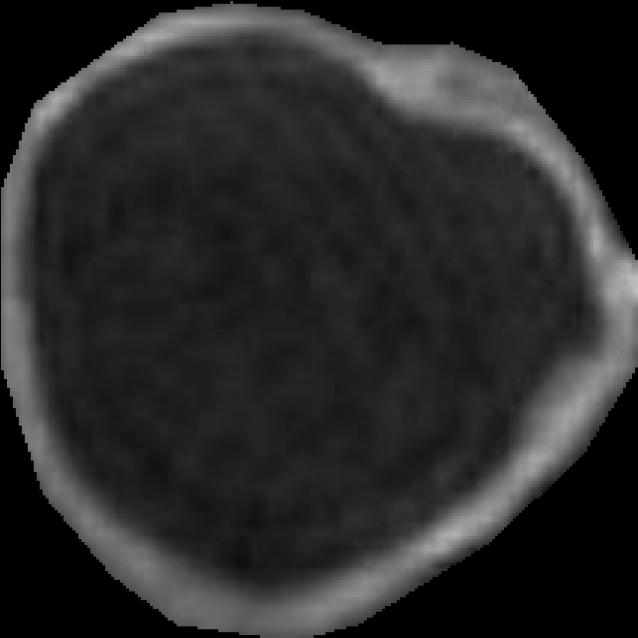tumor_less_chance: (1, 1, 638, 638)
